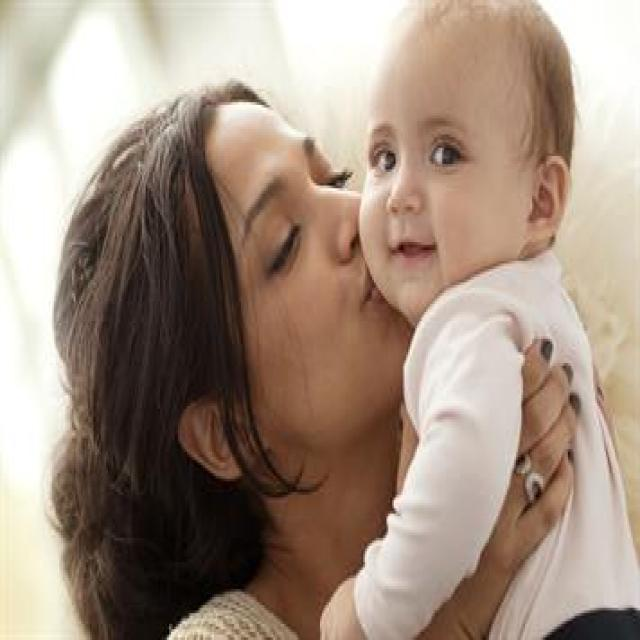non-dog: (321, 1, 640, 640), (50, 78, 407, 640)
